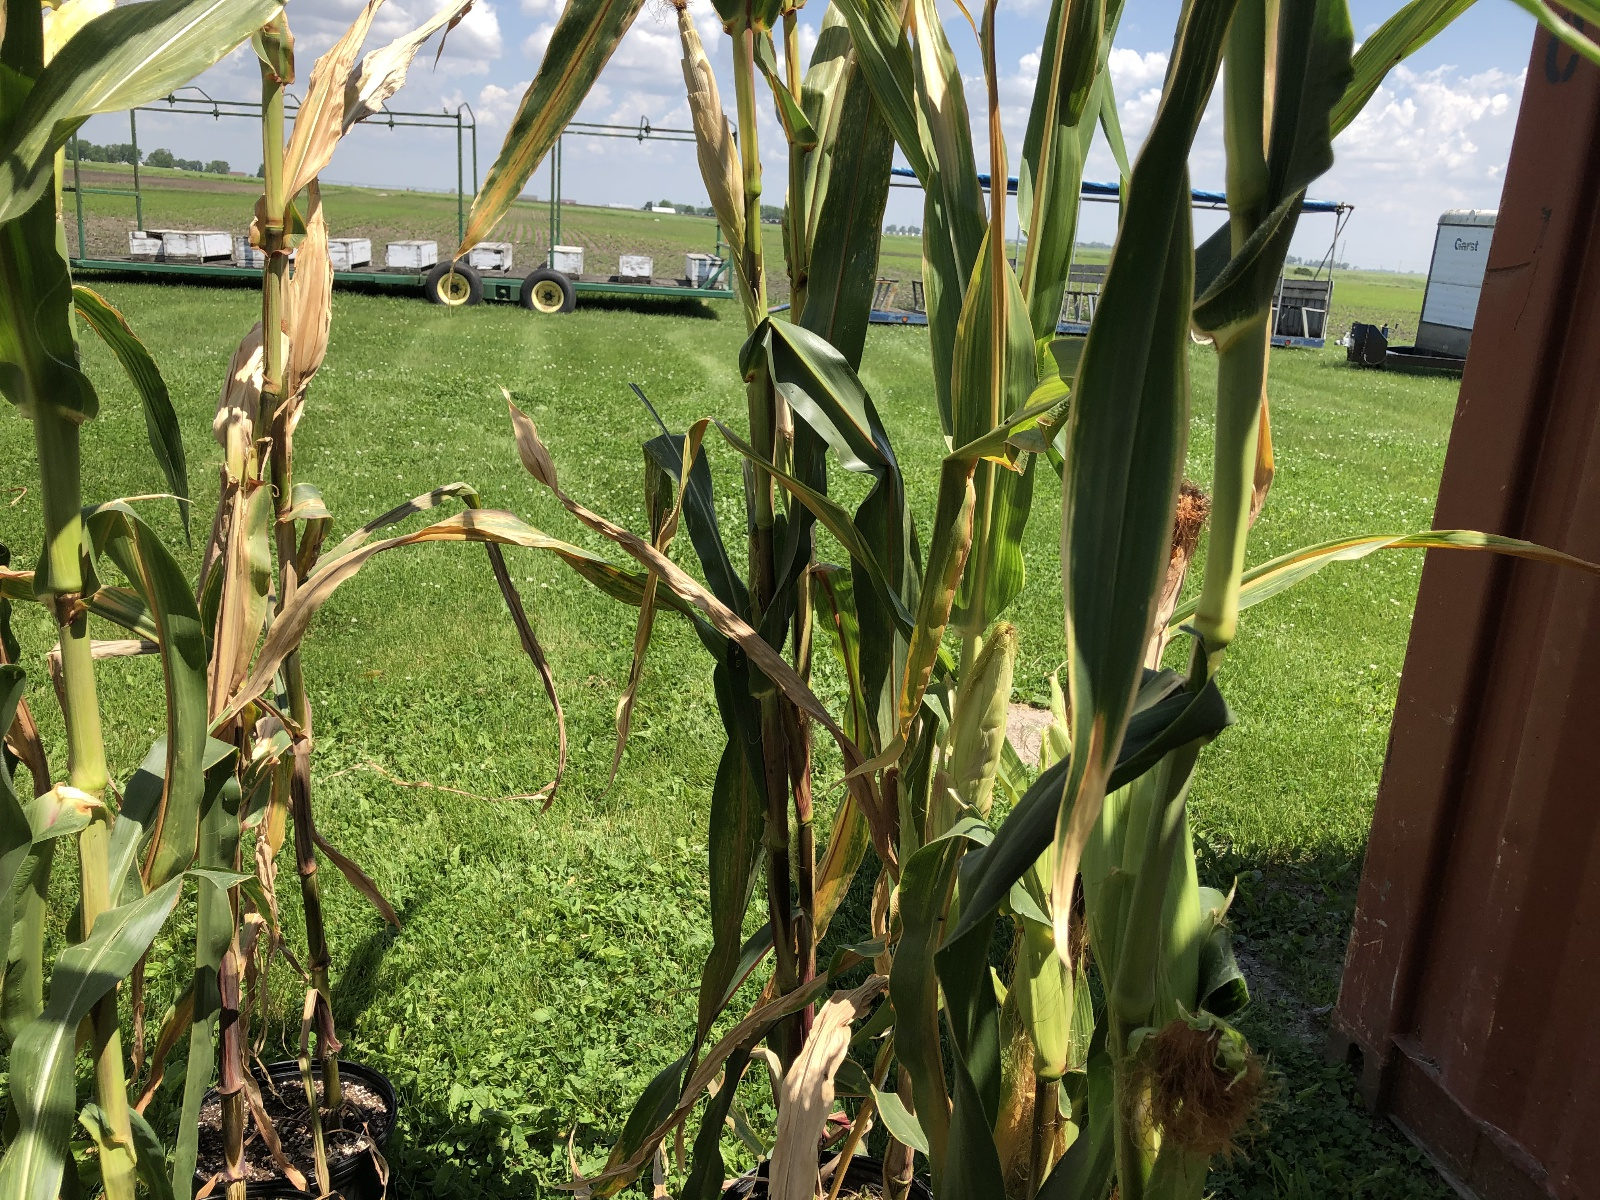ear: (1121, 1000, 1254, 1200), (651, 1, 758, 245), (927, 615, 1022, 850)
